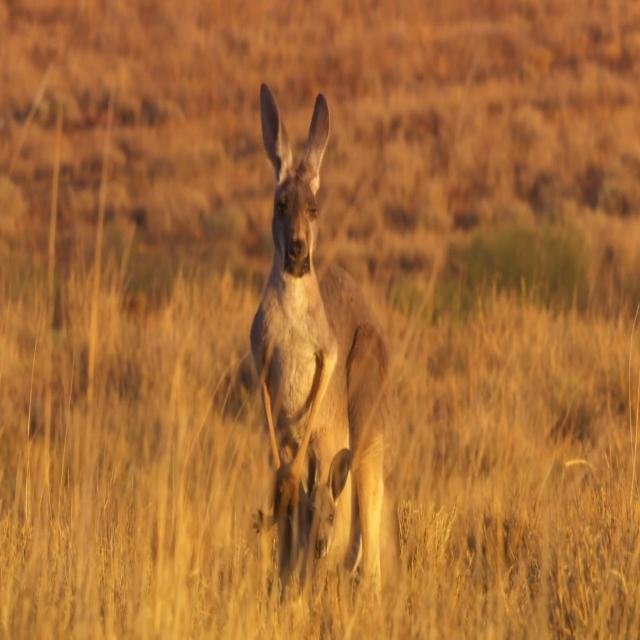kangaroo: (250, 84, 401, 589)
